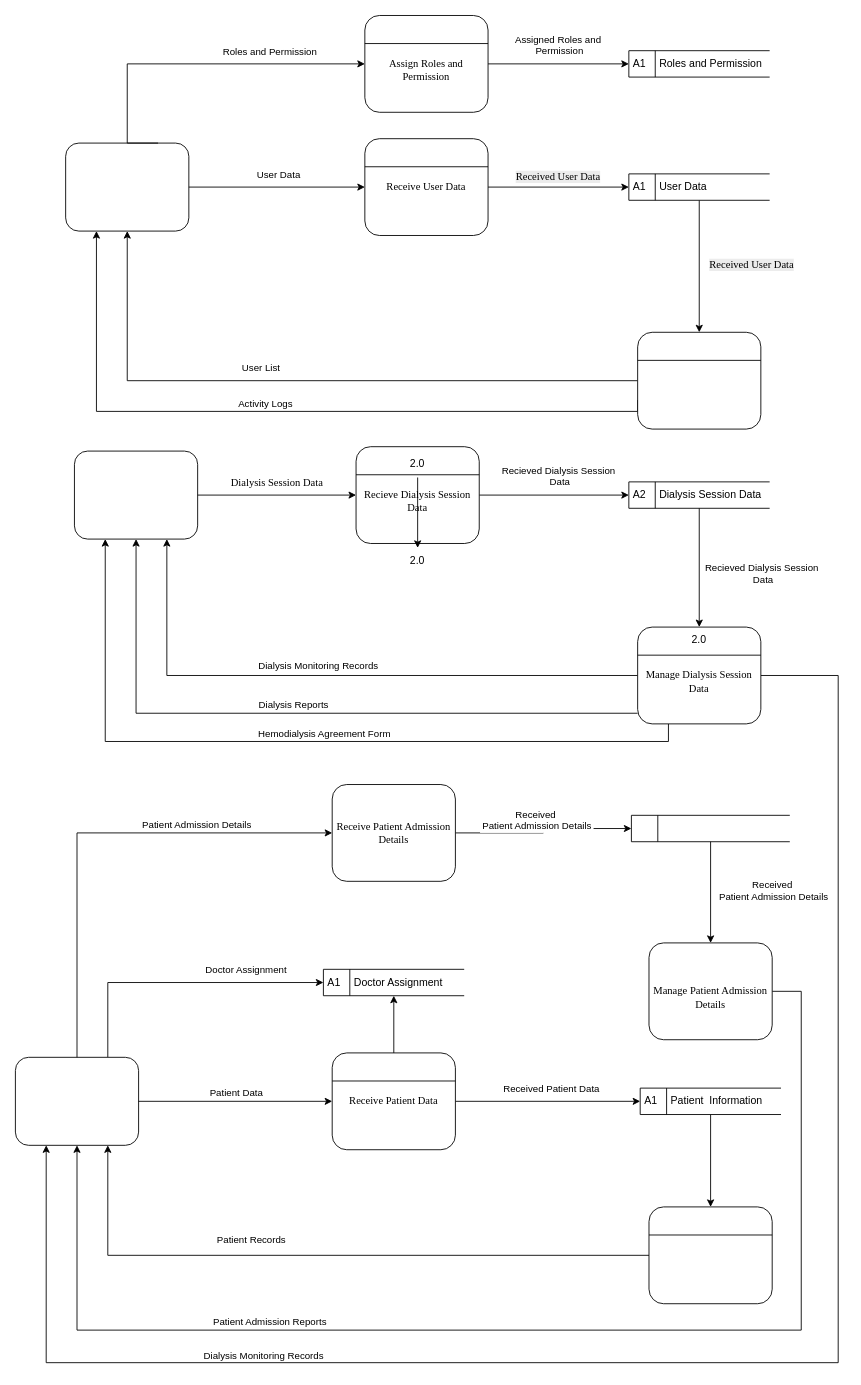
Some shapes in this 861 by 1385 pixel diagram are drawn without their labels. Each missing label, with the centre of its shape:
"A1 Patient Admission Details" goes at point 710,828.
"Admin" goes at point 127,186.
"Cashier" goes at point 77,1100.
"Manage Patient Data" goes at point 710,1255.
"Manage User Data" goes at point 699,380.
"Philhealth Staff" goes at point 136,494.
